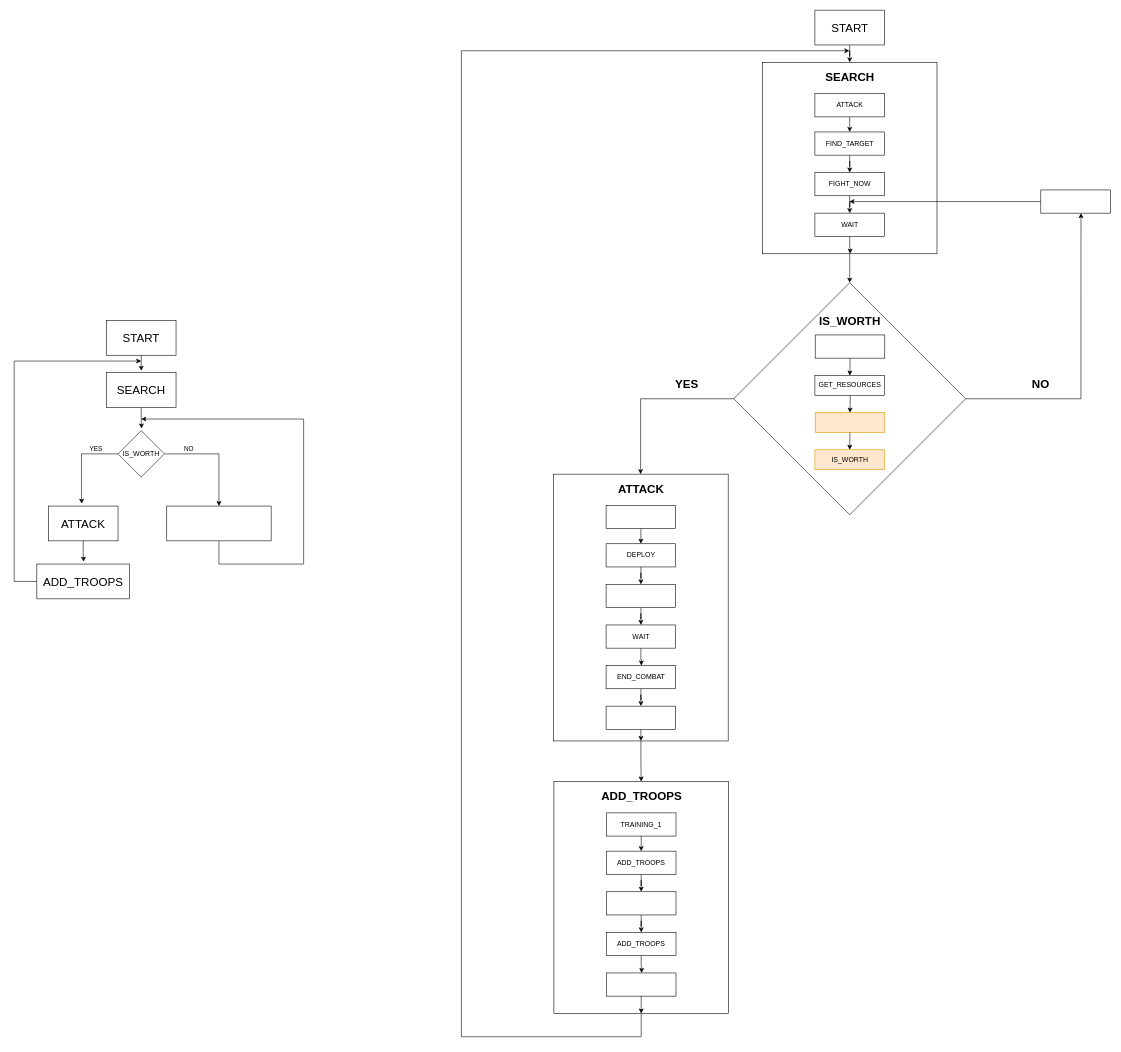
This 1121x1052 diagram has some shape labels left out. The box of each missing label's shape, as (x1, y1, x2, y2) in pixels:
CLOSE_TRAINING: (606, 972, 676, 996)
GET_SCREENSHOT: (815, 334, 885, 358)
GET_TURRETS: (815, 412, 885, 432)
GO_HOME: (606, 706, 676, 729)
SEARCH_AGAIN: (166, 505, 271, 541)
SPPED_UP (x2): (606, 584, 676, 608)
SWITCH_TARGET: (1040, 189, 1110, 213)
TRAINING_2: (606, 891, 676, 915)
VACUUM: (606, 505, 676, 529)
